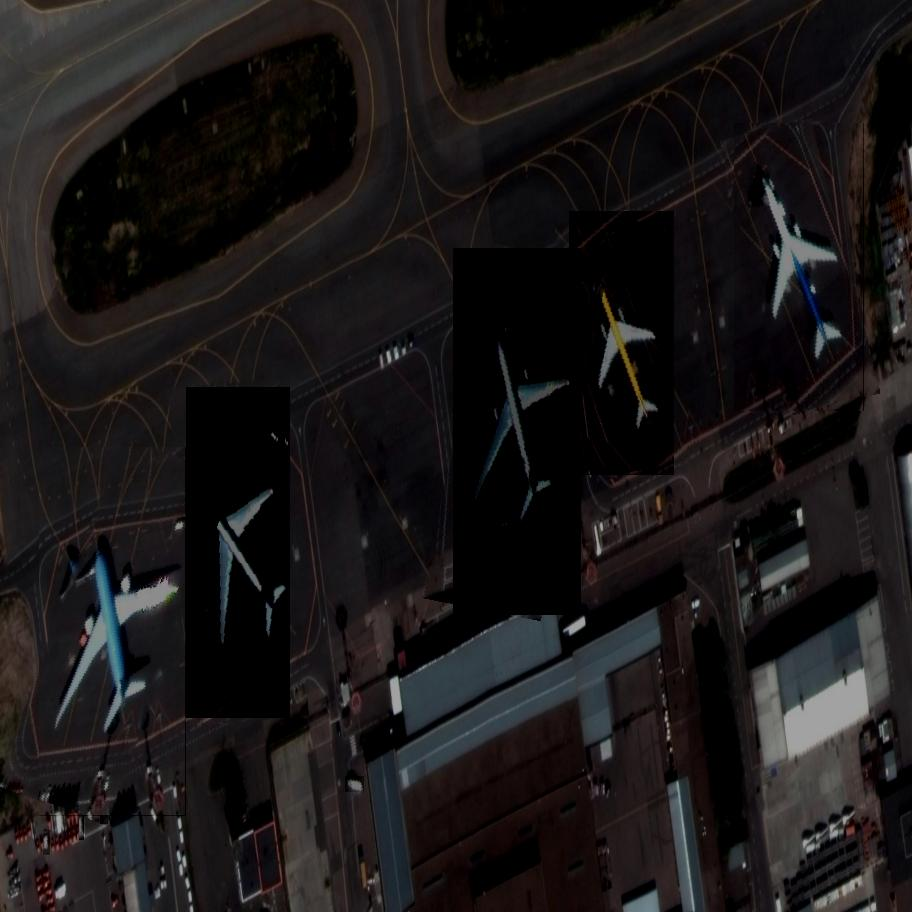plane: (0, 447, 244, 816), (403, 248, 626, 615), (716, 124, 885, 412), (550, 212, 696, 475), (184, 387, 293, 718)
small-vehicle: (342, 777, 367, 794), (100, 803, 108, 824), (44, 831, 50, 854), (105, 799, 111, 820), (80, 809, 83, 839)
